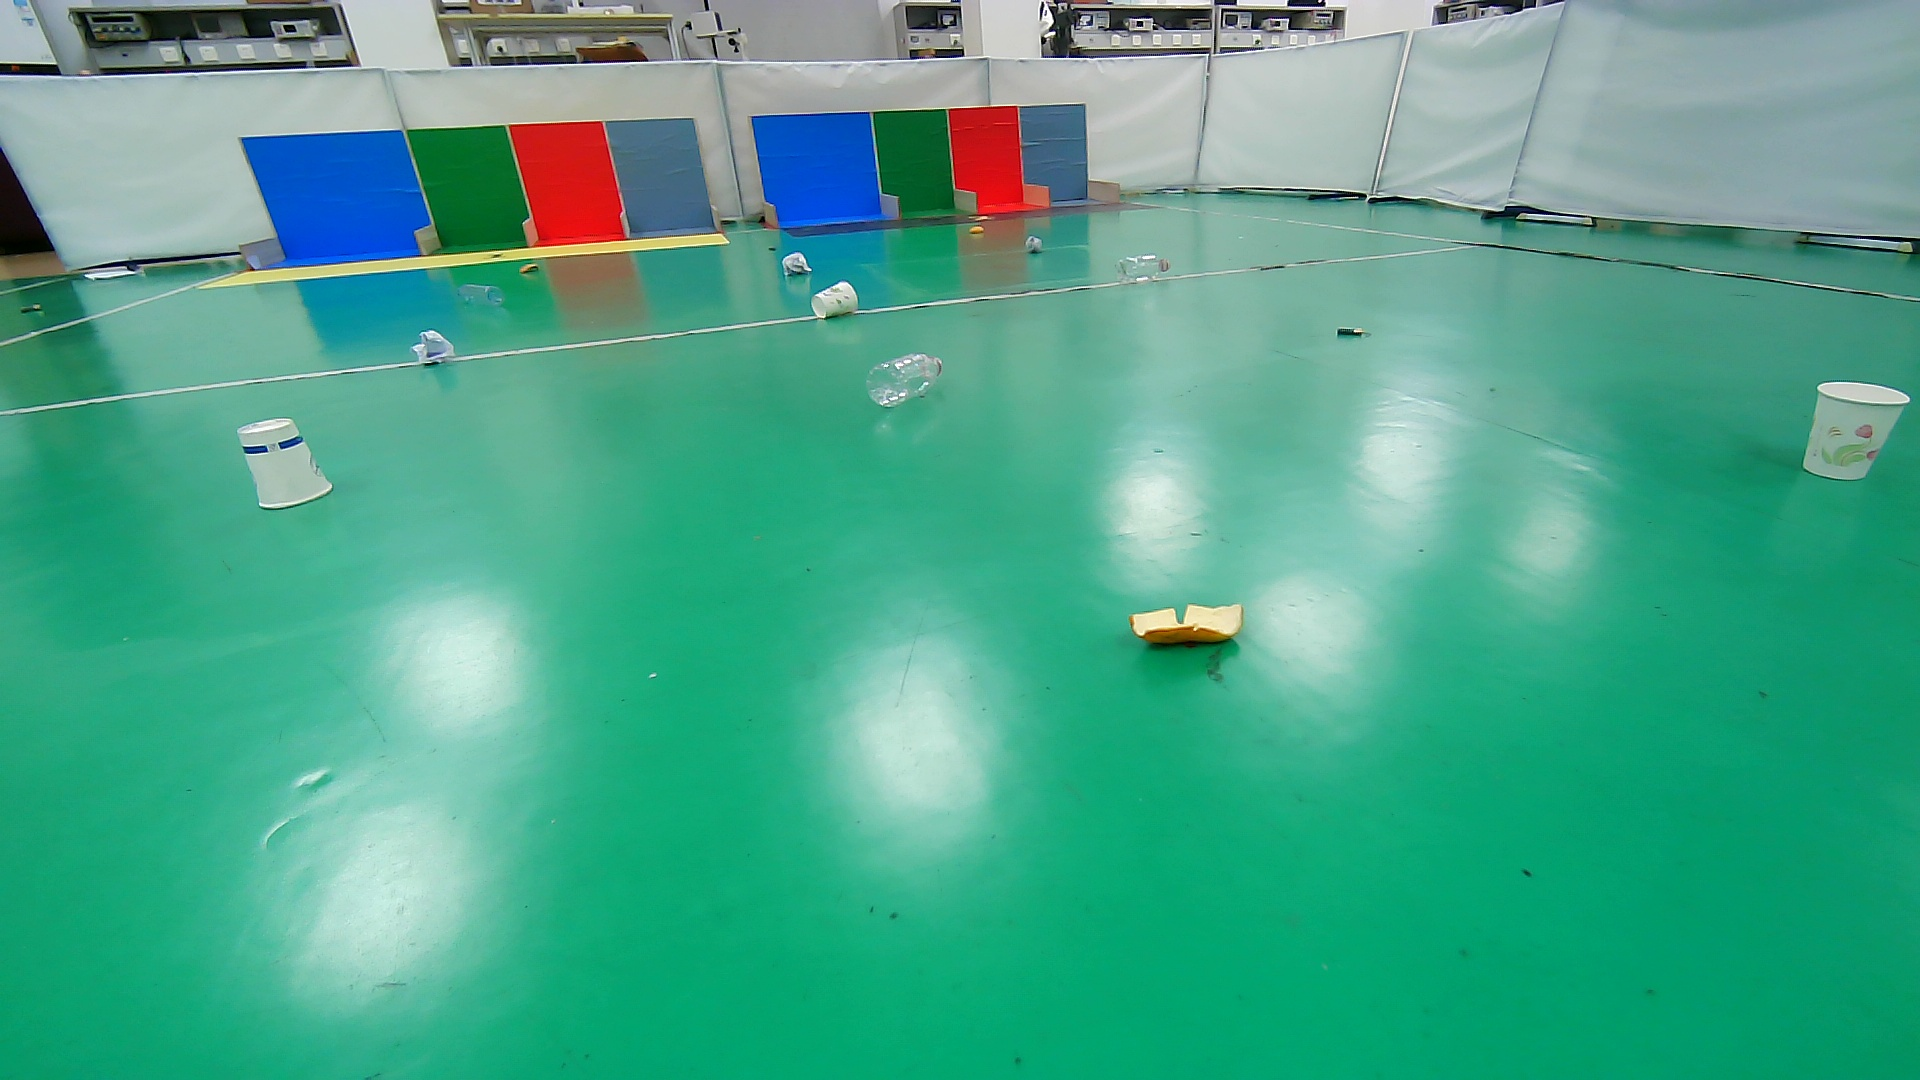battery: (1327, 316, 1377, 347), (12, 298, 50, 319), (762, 241, 783, 256)
bottle: (862, 351, 945, 407), (1113, 253, 1171, 286), (454, 281, 505, 309)
orangepeel: (1120, 588, 1257, 659), (513, 258, 546, 276), (964, 222, 990, 237)
papercup: (1797, 371, 1911, 488), (236, 415, 338, 512), (810, 280, 860, 319)
spitball: (411, 328, 456, 367), (781, 251, 814, 280), (1023, 233, 1044, 255)
